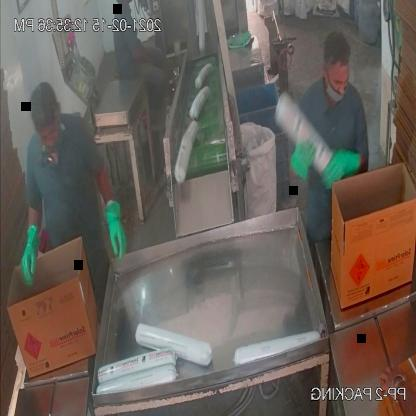glove: (100, 193, 133, 267), (15, 205, 39, 302), (323, 143, 363, 190), (288, 140, 322, 181)
no_glove: (127, 38, 165, 67)
